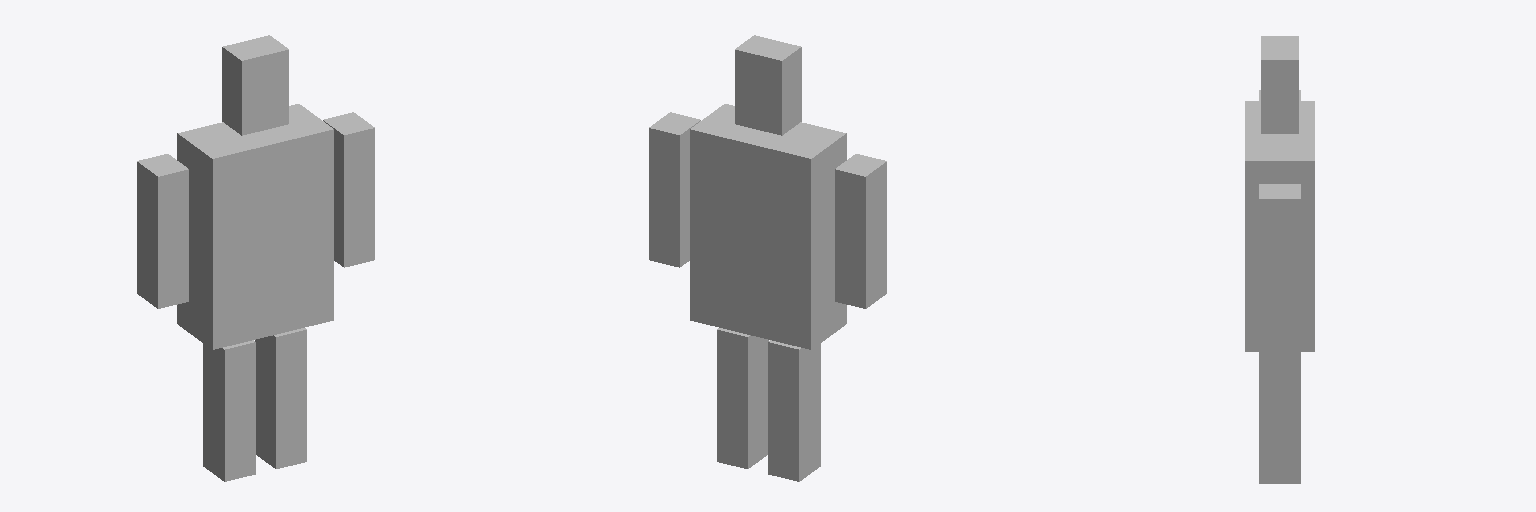
File: NPCModel.obj
The picture shows the model from 3 angles: view 1: azimuth 30°, elevation 25°; view 2: azimuth 150°, elevation 25°; view 3: azimuth 270°, elevation 25°; orthographic projection.
Parts seen in each view (by area): view 1: NPCTorso, NPCArm1 pasted__group group2, NPCLeg1 group, NPCLeg2 pasted__group group1, NPCArm2 pasted__group group3, NPCHead group4; view 2: NPCTorso, NPCArm1 pasted__group group2, NPCLeg1 group, NPCLeg2 pasted__group group1, NPCArm2 pasted__group group3, NPCHead group4; view 3: NPCTorso, NPCArm2 pasted__group group3, NPCLeg2 pasted__group group1, NPCHead group4.
Part boxes in pixels (x1,y1,x2,y2): NPCTorso: (177,104,333,349); NPCArm1 pasted__group group2: (137,154,188,308); NPCLeg1 group: (203,340,255,481); NPCLeg2 pasted__group group1: (255,328,306,468); NPCArm2 pasted__group group3: (323,112,374,267); NPCHead group4: (222,35,288,135); NPCTorso: (690,104,846,349); NPCArm1 pasted__group group2: (835,154,886,308); NPCLeg1 group: (768,340,820,481); NPCLeg2 pasted__group group1: (717,328,768,468); NPCArm2 pasted__group group3: (649,112,700,267); NPCHead group4: (735,35,801,135); NPCTorso: (1245,101,1314,351); NPCArm2 pasted__group group3: (1259,184,1300,331); NPCLeg2 pasted__group group1: (1259,352,1300,483); NPCHead group4: (1261,36,1298,133).
Bounding box in the file's own units: 3.57 × 6.53 × 1.